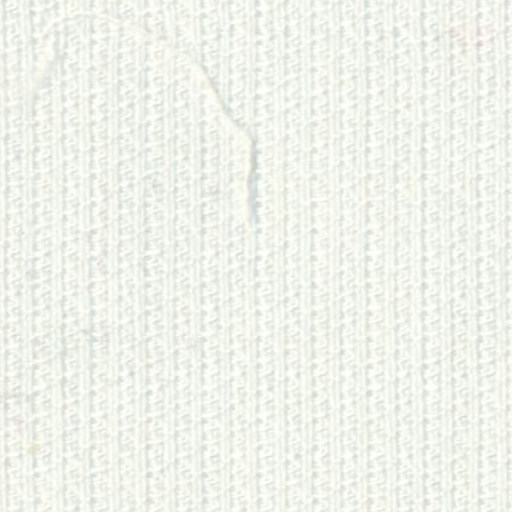DuanSha: (12, 6, 281, 227)
